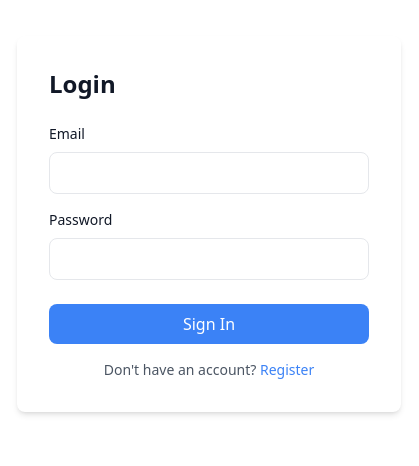
Test: LoginPage › shows error message for invalid credentials
This screenshot has width=419, height=466.
Type "test@example.com" into the field labelled "Email" at (209, 173), box [49,152,369,194]
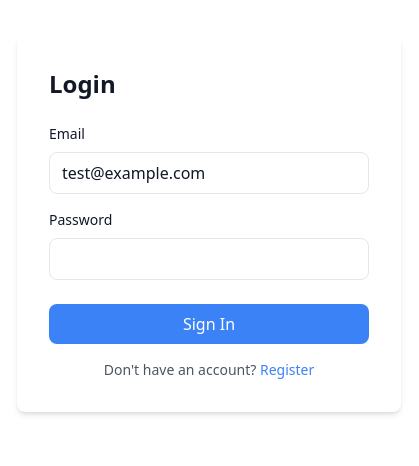
Type "password123" into the password field labelled "Password" at (209, 259), box [49,238,369,280]
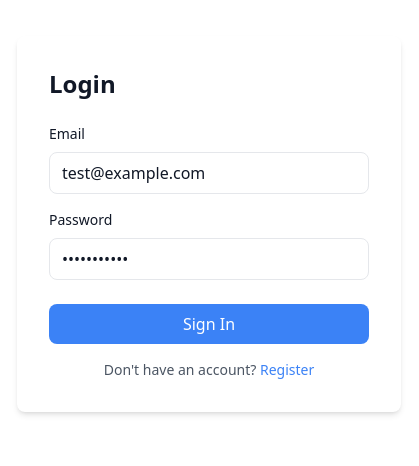
Click the button "Sign In" at (209, 324), box [49,304,369,344]
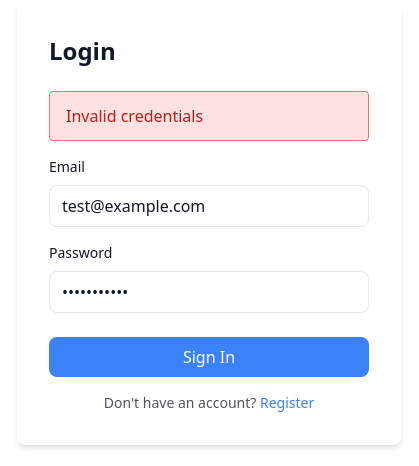
Result: the text "Invalid credentials" is shown at [49,91,369,141]
